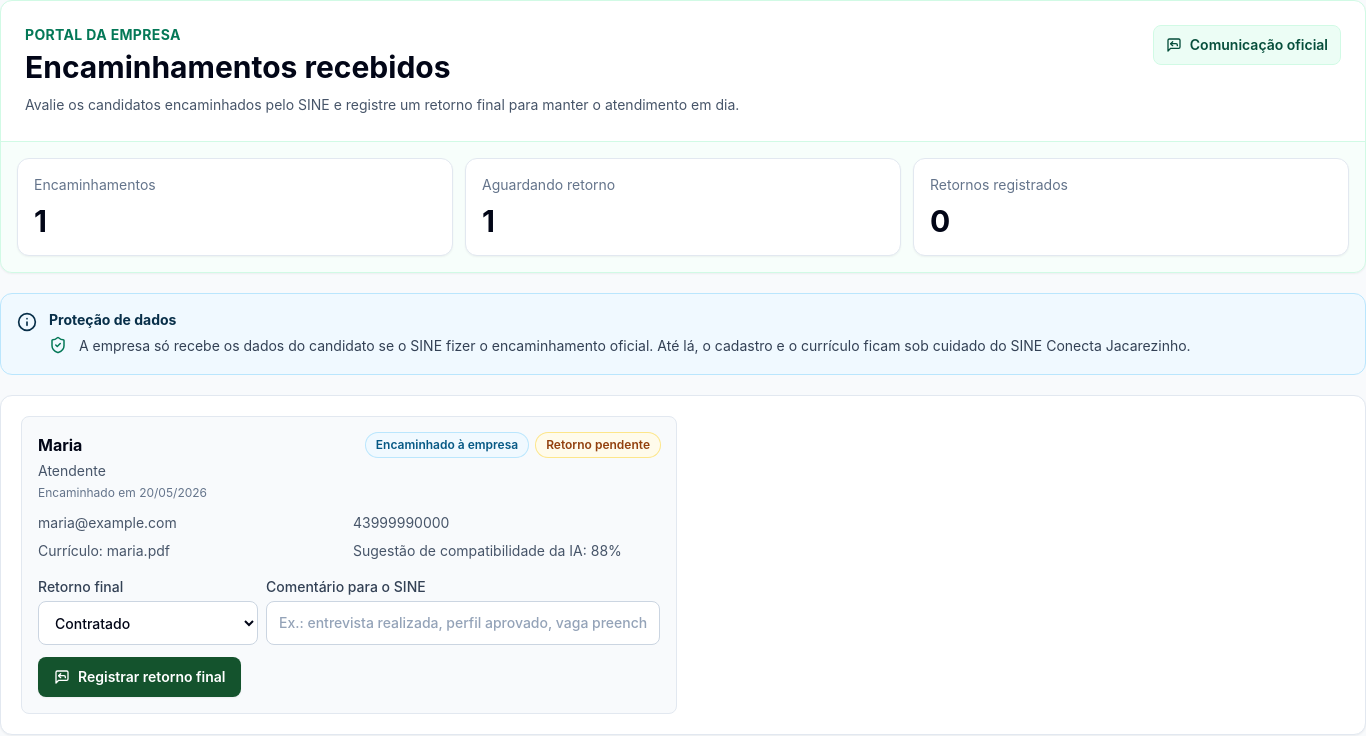
it: Company portal pages › CompanyReferralsPage permite registrar feedback
Expected: the text "Maria" is shown, [38,435,82,455]
Click the button "Registrar retorno final" at (140, 677), box [38,657,242,697]
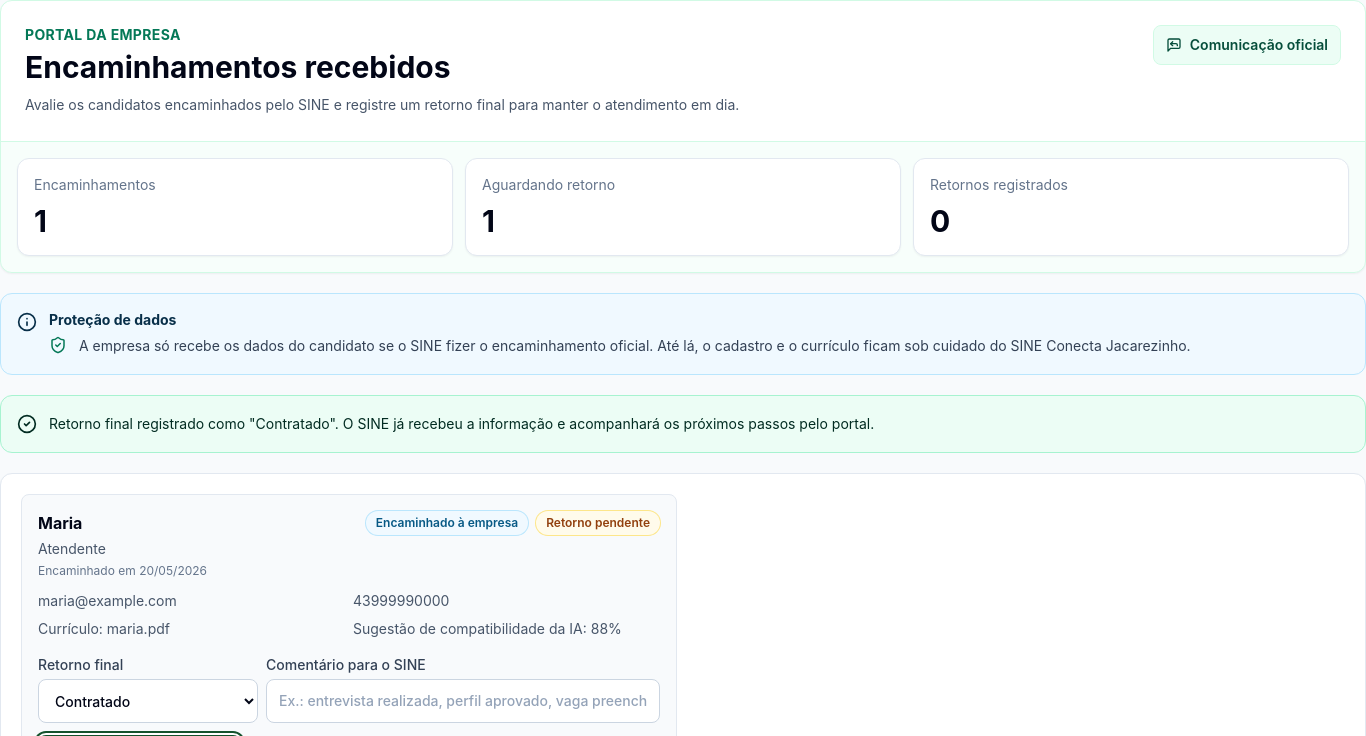
Expected: the text "Retorno final registrado" is shown, [49,415,874,432]
